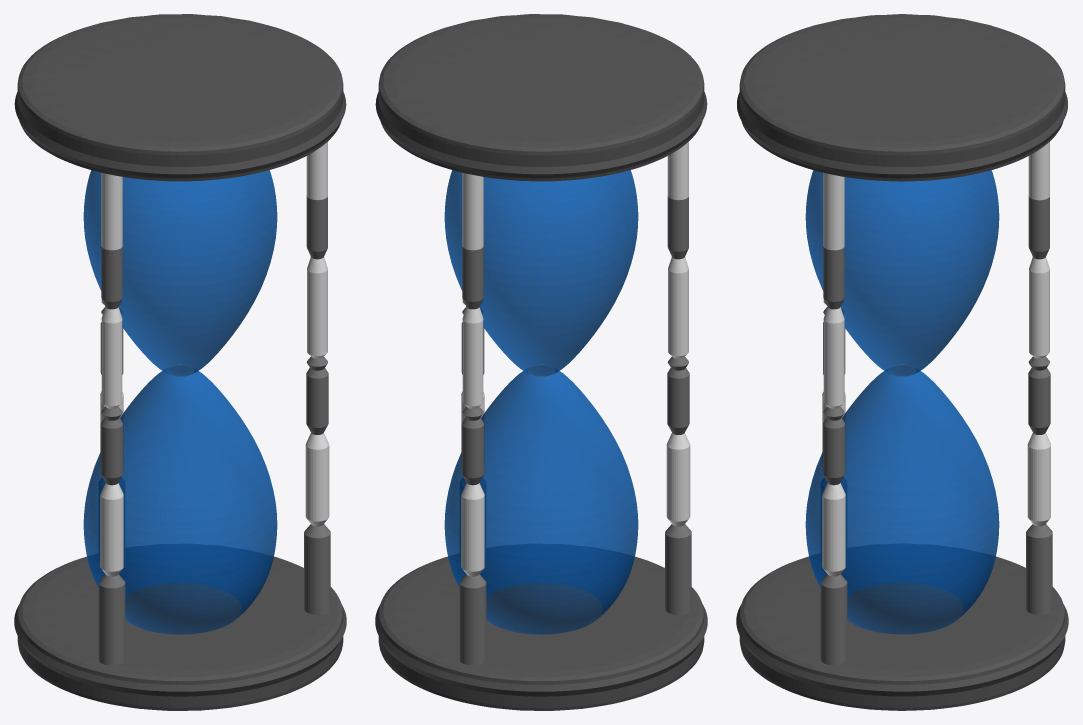
File: sandclock.fbx
3 renders of one model, left to right at view 1: azimuth 30°, elevation 25°; view 2: azimuth 150°, elevation 25°; view 3: azimuth 270°, elevation 25°, orthographic.
Parts seen in each view (by area): view 1: 球, Bottom_Plate.001, Bottom_Plate, Piller1.001, Piller1.002; view 2: 球, Bottom_Plate.001, Bottom_Plate, Piller1.003, Piller1.001; view 3: 球, Bottom_Plate.001, Bottom_Plate, Piller1.002, Piller1.003.
Boxes of the visible parts, x1,y1,x2,y2 form: 球: [83, 170, 277, 634]; Bottom_Plate.001: [14, 14, 346, 181]; Bottom_Plate: [14, 556, 346, 710]; Piller1.001: [98, 172, 125, 665]; Piller1.002: [304, 142, 330, 614]; 球: [444, 170, 638, 634]; Bottom_Plate.001: [375, 14, 707, 181]; Bottom_Plate: [375, 556, 707, 710]; Piller1.003: [459, 172, 486, 665]; Piller1.001: [665, 141, 691, 614]; 球: [805, 170, 999, 634]; Bottom_Plate.001: [737, 14, 1067, 181]; Bottom_Plate: [736, 556, 1068, 710]; Piller1.002: [820, 172, 847, 665]; Piller1.003: [1026, 142, 1052, 614].
Size of the model in its own units: 203 by 381 by 203.
